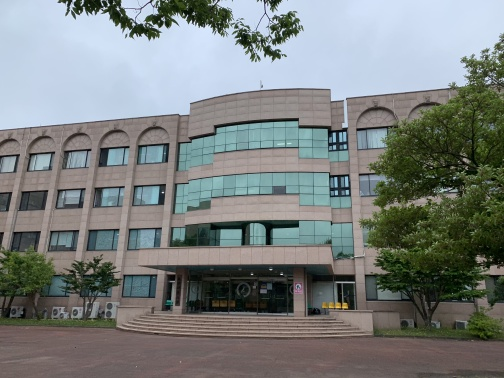Natural Science2: (6, 90, 396, 340)
